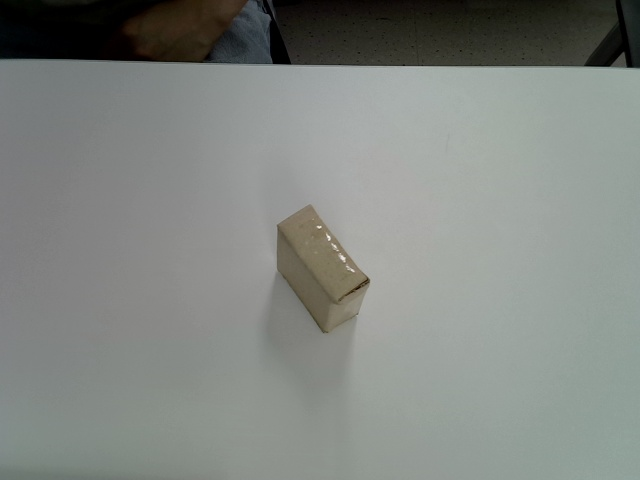normal: (276, 204, 371, 333)
